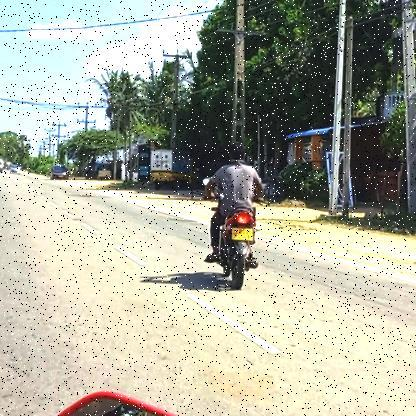motorcycle: (202, 206, 264, 291)
